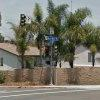Palm tree: (28, 0, 100, 61)
